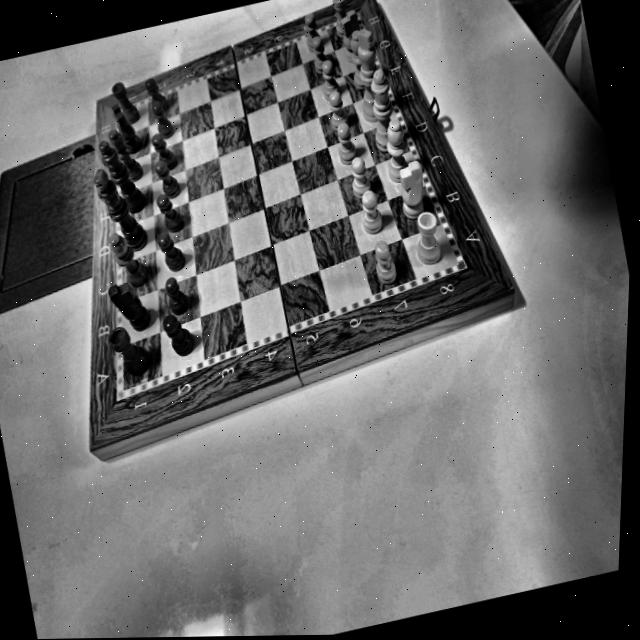black-bishop: (102, 223, 153, 293), (106, 124, 144, 186)
black-king: (88, 159, 154, 258)
black-knight: (103, 276, 154, 336), (108, 100, 143, 156)
black-pawn: (159, 310, 199, 359), (144, 129, 184, 174), (154, 230, 191, 276), (161, 270, 193, 317), (155, 190, 186, 235), (148, 97, 178, 141), (153, 156, 185, 197), (143, 75, 171, 114)
black-queen: (93, 131, 150, 221)
black-rook: (105, 320, 158, 382), (105, 74, 145, 128)
white-bishop: (377, 114, 417, 185), (343, 26, 371, 90)
white-king: (345, 26, 394, 124)
white-knight: (391, 158, 434, 222), (334, 9, 366, 64)
white-pawn: (367, 237, 404, 288), (355, 189, 386, 237), (346, 151, 374, 200), (331, 120, 360, 165), (316, 57, 344, 102), (324, 87, 351, 130), (307, 35, 332, 75), (299, 11, 323, 51)
white-queen: (359, 65, 406, 155)
white-rook: (405, 207, 452, 270), (325, 0, 355, 42)
